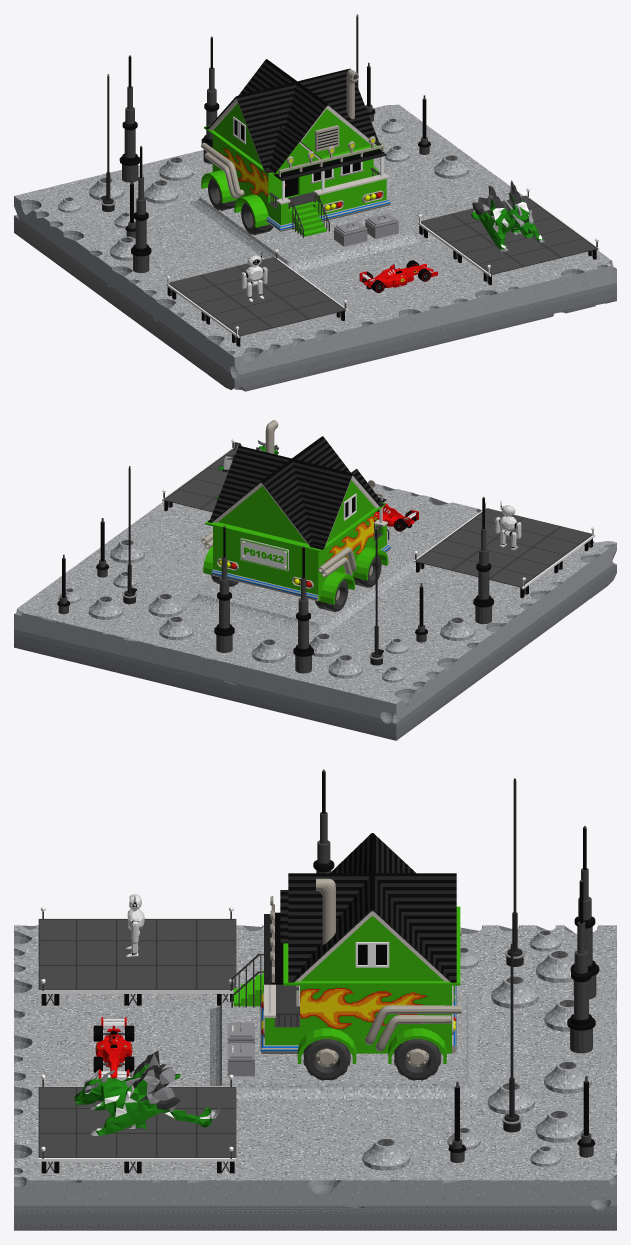
The picture shows the model from 3 angles, top to bottom: view 1: azimuth 30°, elevation 25°; view 2: azimuth 150°, elevation 25°; view 3: azimuth 270°, elevation 25°; orthographic projection. The views are drawn at different scales.
Parts seen in each view (by area): view 1: Cube.027, Cube.1474, Cube.025, Cube.026, Cube.028, ANIMAL_DRAGON, Cylinder.020, VEHICLES_FORMULA_1, Cylinder.021, Cylinder.017, OBJRANDOM_PLATZEEBOT, Cube.029 (+6 smaller); view 2: Cube.027, Cube.1474, Cube.025, Cube.028, Cube.026, Cylinder.017, Cylinder.021, Cylinder.020, OBJRANDOM_PLATZEEBOT, VEHICLES_FORMULA_1, Cylinder.028, Cylinder.030 (+8 smaller); view 3: Cube.027, Cube.1474, Cube.025, Cube.026, Cube.028, ANIMAL_DRAGON, Cylinder.017, VEHICLES_FORMULA_1, Cylinder.020, Cylinder.033, Cylinder.031, Cylinder.029 (+11 smaller).
Boxes of the visible parts, x1,y1,x2,y2 form: Cube.027: [14, 104, 616, 391]; Cube.1474: [201, 59, 390, 237]; Cube.025: [166, 249, 347, 346]; Cube.026: [417, 188, 599, 285]; Cube.028: [190, 194, 421, 271]; ANIMAL_DRAGON: [471, 180, 545, 252]; Cylinder.020: [119, 55, 139, 182]; VEHICLES_FORMULA_1: [359, 260, 437, 292]; Cylinder.021: [131, 146, 151, 273]; Cylinder.017: [201, 36, 219, 163]; OBJRANDOM_PLATZEEBOT: [241, 251, 267, 301]; Cube.029: [334, 221, 367, 246]; Cube.027: [14, 483, 616, 740]; Cube.1474: [201, 420, 390, 611]; Cube.025: [413, 500, 595, 598]; Cube.028: [188, 552, 415, 634]; Cube.026: [162, 439, 234, 512]; Cylinder.017: [214, 525, 234, 652]; Cylinder.021: [473, 496, 493, 624]; Cylinder.020: [293, 546, 313, 673]; OBJRANDOM_PLATZEEBOT: [495, 500, 521, 550]; VEHICLES_FORMULA_1: [374, 503, 418, 531]; Cylinder.028: [328, 654, 362, 678]; Cylinder.030: [148, 593, 182, 617]; Cube.027: [14, 925, 616, 1230]; Cube.1474: [231, 833, 461, 1080]; Cube.025: [38, 906, 236, 1005]; Cube.026: [38, 1074, 236, 1173]; Cube.028: [210, 1001, 477, 1098]; ANIMAL_DRAGON: [74, 1050, 219, 1135]; Cylinder.017: [567, 879, 595, 1053]; VEHICLES_FORMULA_1: [93, 1017, 134, 1078]; Cylinder.020: [570, 826, 599, 999]; Cylinder.033: [362, 1137, 409, 1170]; Cylinder.031: [535, 1110, 583, 1142]; Cylinder.029: [544, 1061, 591, 1093].
Size of the model in its own units: 4000 by 1932 by 4000.
Materials: 40 (5 with a texture image).
